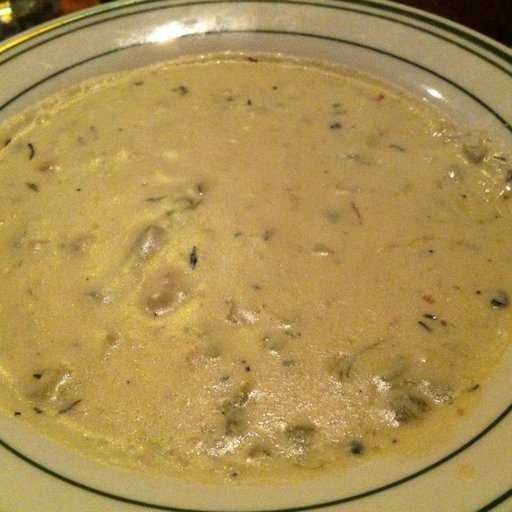soup: (11, 17, 499, 480)
